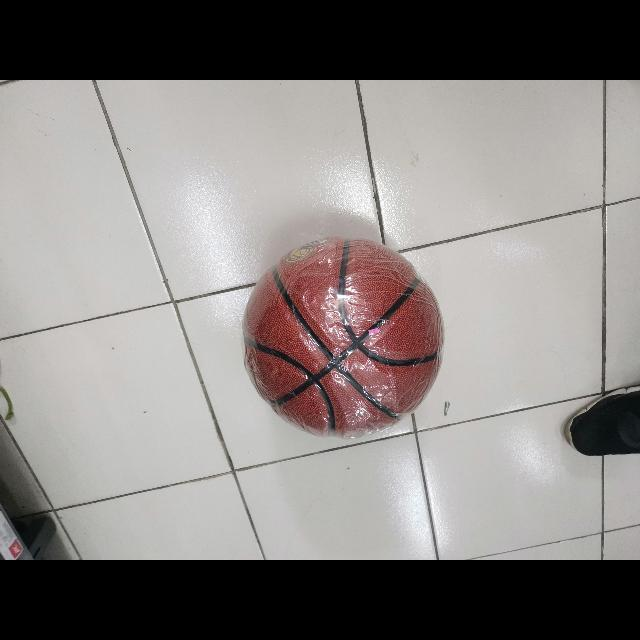basketball: (243, 238, 441, 430)
